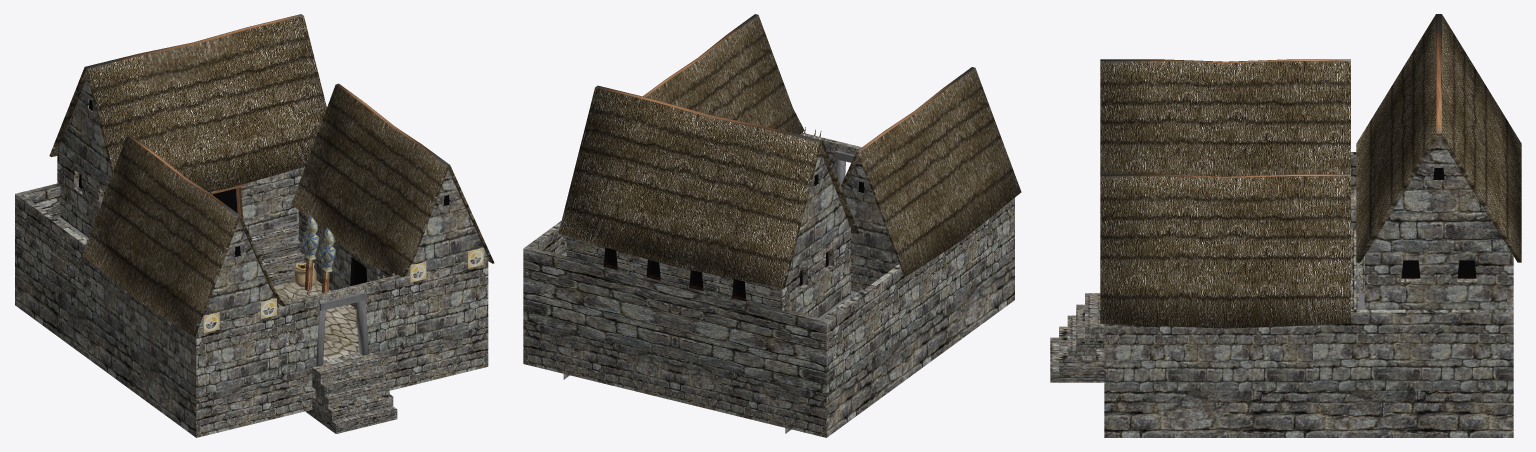
File: inca_barracks.dae
3 views of the same model, side by side, from view 1: azimuth 30°, elevation 25°; view 2: azimuth 150°, elevation 25°; view 3: azimuth 270°, elevation 25° (orthographic). The views are drawn at different scales.
Visible parts, largest first — view 1: barracks; view 2: barracks; view 3: barracks.
Part boxes in pixels (box(x1,y1,x2,y2)): barracks: box(14, 14, 494, 437); barracks: box(523, 14, 1021, 437); barracks: box(1050, 14, 1521, 437).
Bounding box in the file's own units: 20.95 × 25.19 × 17.23.
